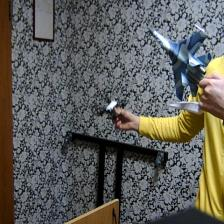drone: (91, 86, 134, 122)
